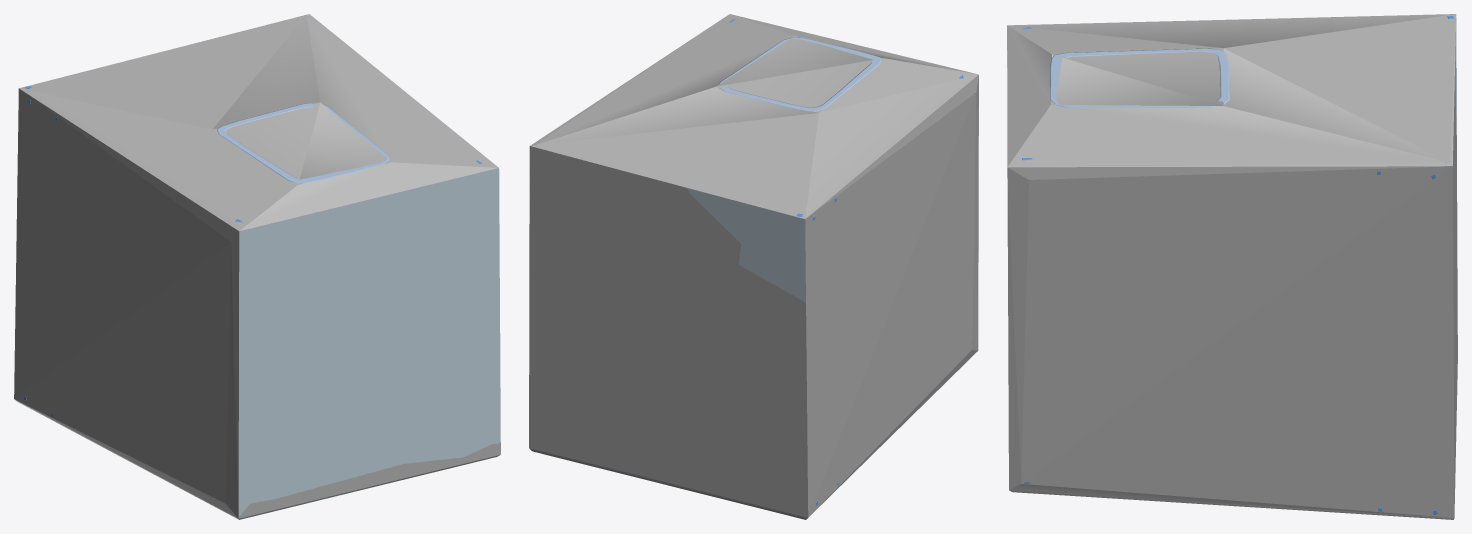
File: washing_machine.fbx
The picture shows the model from 3 angles, left to right: view 1: azimuth 30°, elevation 25°; view 2: azimuth 150°, elevation 25°; view 3: azimuth 270°, elevation 25°; orthographic projection. The views are drawn at different scales.
Visible parts, largest first — view 1: c_washing_machine, washing_machine; view 2: c_washing_machine, washing_machine; view 3: c_washing_machine, washing_machine.
Part boxes in pixels (box(x1,y1,x2,y2)): c_washing_machine: box(14, 14, 500, 518); washing_machine: box(15, 14, 500, 519); c_washing_machine: box(529, 14, 978, 519); washing_machine: box(529, 19, 978, 519); c_washing_machine: box(1007, 14, 1457, 519); washing_machine: box(1007, 16, 1456, 514).
Bounding box in the file's own units: 88.26 × 99.05 × 105.
